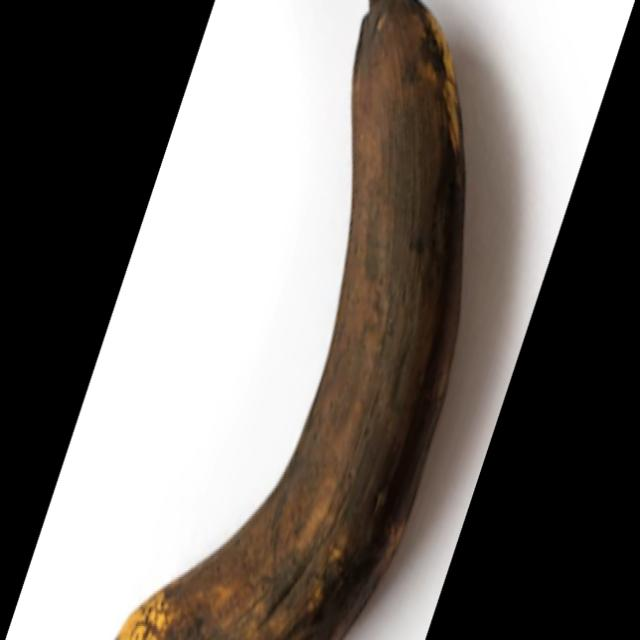Rotten: (118, 0, 465, 640)
